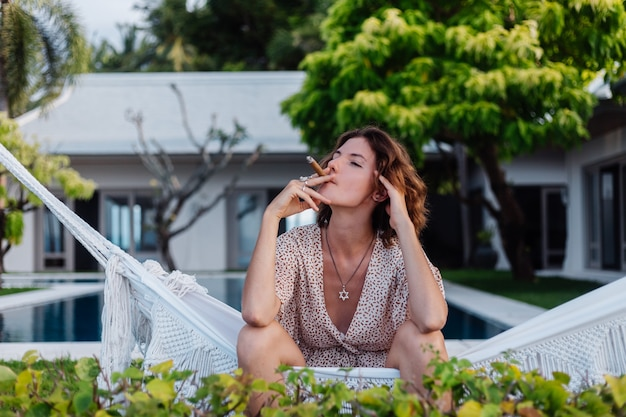cigarette: (305, 156, 327, 177)
